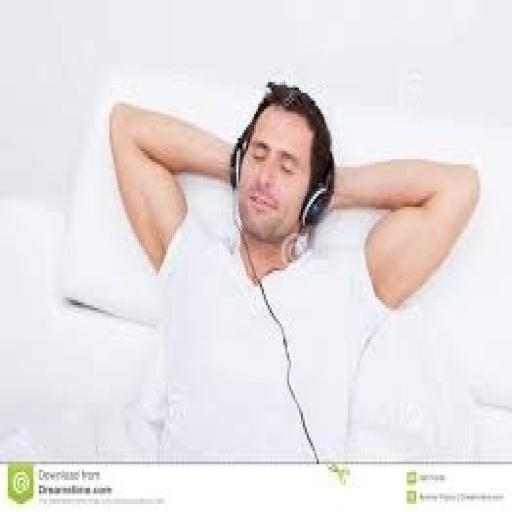listening_to_music: (106, 80, 486, 464)
